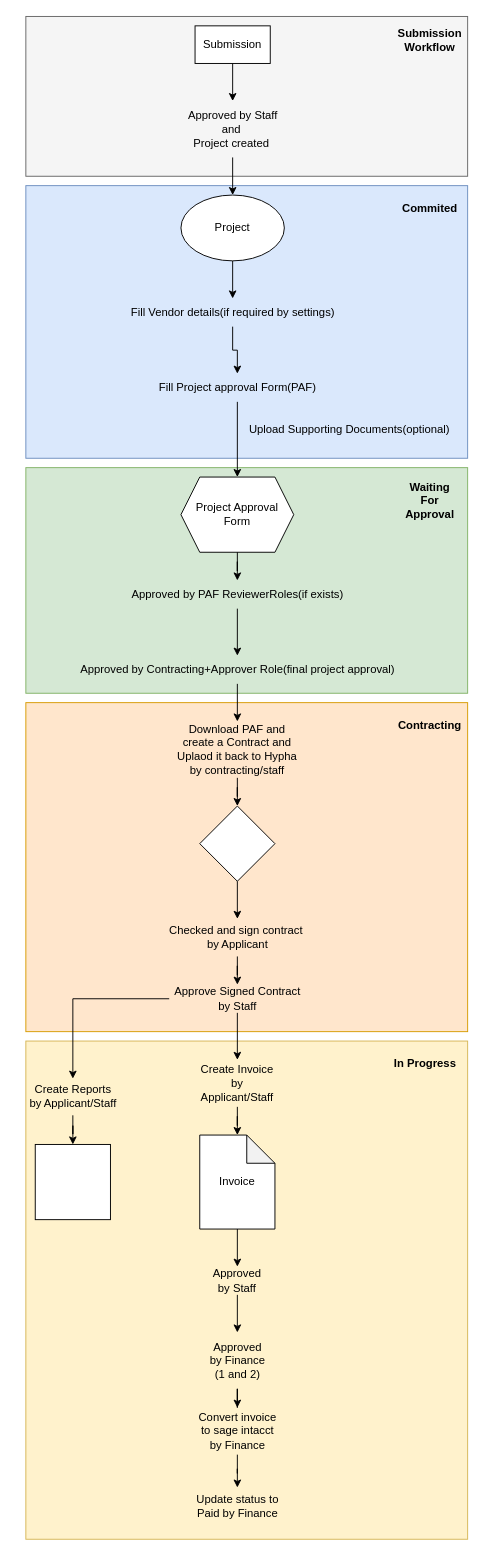
This 484x1556 diagram has some shape labels left out. Each missing label, with the centre of its shape:
Contract: point 237,843
Reports: point 72,1182
